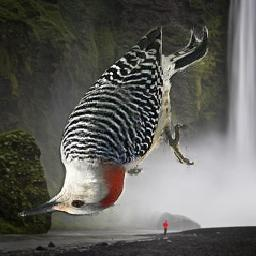Woodpecker: (18, 27, 208, 218)
